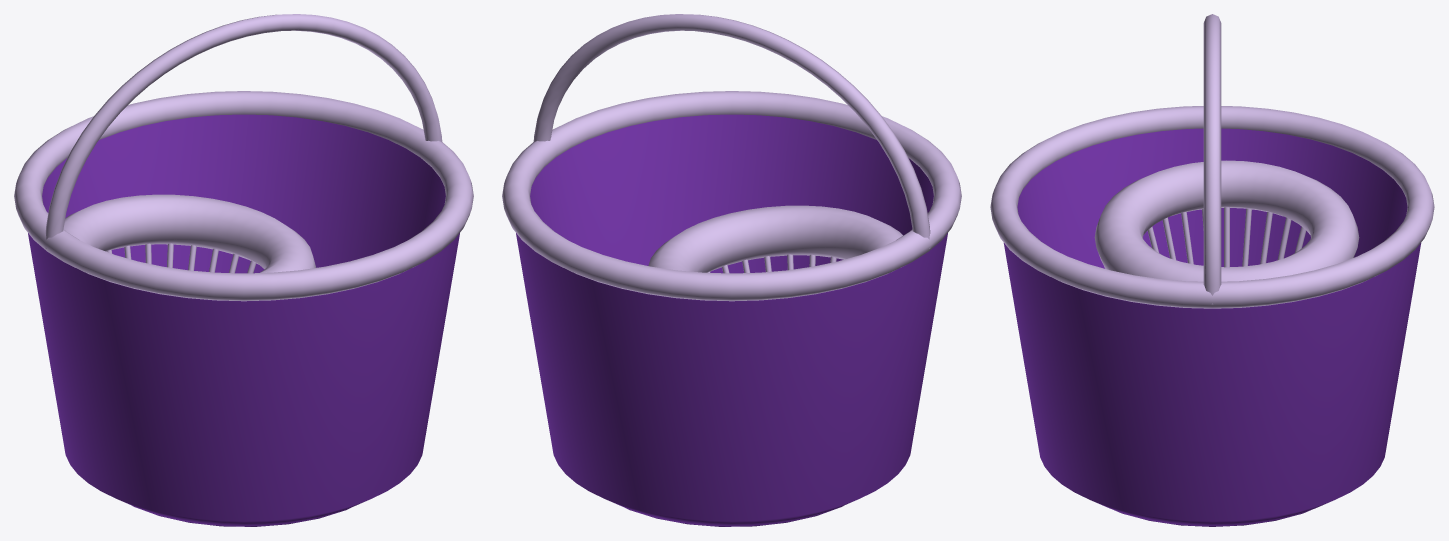
The model's file is bucket.glb.
3 renders of one model, left to right at view 1: azimuth 30°, elevation 25°; view 2: azimuth 150°, elevation 25°; view 3: azimuth 270°, elevation 25°, orthographic. The views are drawn at different scales.
Visible parts, largest first — view 1: 中空紫色桶身, 紫色水桶与浅紫色滤篮, 水桶提手; view 2: 中空紫色桶身, 紫色水桶与浅紫色滤篮, 水桶提手; view 3: 中空紫色桶身, 紫色水桶与浅紫色滤篮, 水桶提手.
Part boxes in pixels (box(x1,y1,x2,y2)): 中空紫色桶身: box(28, 114, 459, 526); 紫色水桶与浅紫色滤篮: box(14, 91, 473, 301); 水桶提手: box(45, 14, 442, 248); 中空紫色桶身: box(516, 114, 947, 526); 紫色水桶与浅紫色滤篮: box(502, 91, 961, 301); 水桶提手: box(533, 14, 930, 248); 中空紫色桶身: box(1003, 128, 1421, 526); 紫色水桶与浅紫色滤篮: box(990, 106, 1434, 308); 水桶提手: box(1203, 14, 1221, 304).
Size of the model in its own units: 0.46 by 0.4895 by 0.46.
